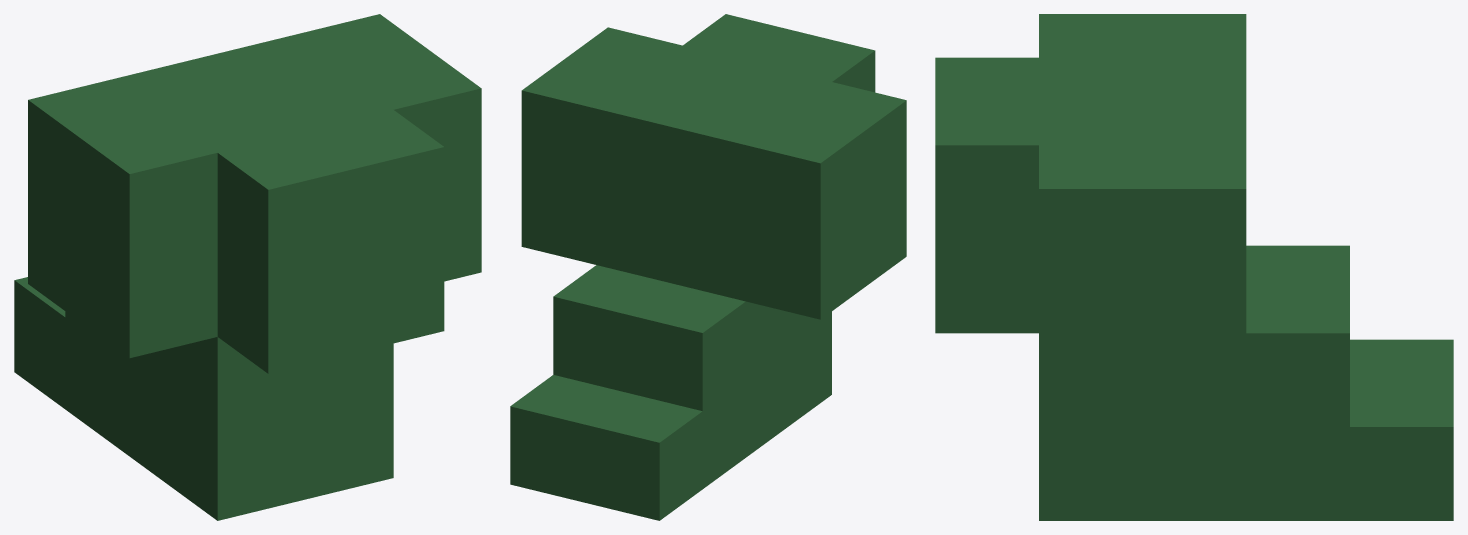
The model's file is Leech Guy Body 2.obj.
3 renders of one model, left to right at view 1: azimuth 30°, elevation 25°; view 2: azimuth 150°, elevation 25°; view 3: azimuth 270°, elevation 25°, orthographic. The views are drawn at different scales.
Size of the model in its own units: 4 by 4 by 5.
1 material, 1 textured.
